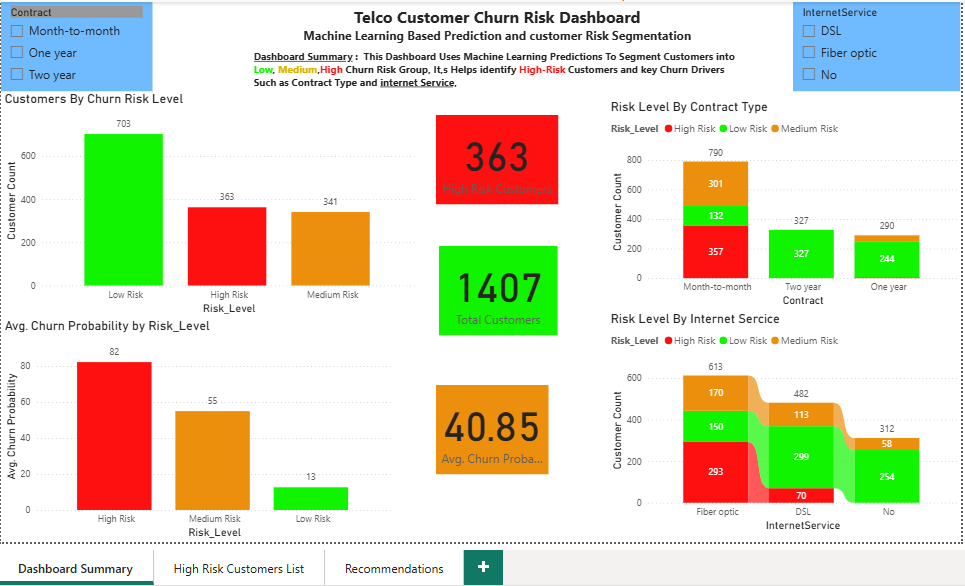

Layout of this report page (visuals, bound fields, positions):
{"tool":"powerbi","page":{"name":"Dashboard Summary","canvas":[1280,720],"ordinal":0},"visuals":[{"type":"card","fields":{"Values":["telco_churn_powerbi.Total Customers"]},"box":[584.6,325.9,157.9,119.3],"z":0},{"type":"card","fields":{"Values":["telco_churn_powerbi.High Risk Customers"]},"box":[579.5,151.2,162.9,119.3],"z":1000},{"type":"card","fields":{"Values":["telco_churn_powerbi.Average Churn Probabillity"]},"box":[579.5,510.7,149.5,119.3],"z":2000},{"type":"clusteredColumnChart","title":"Customers By Churn  Risk Level","fields":{"Category":["telco_churn_powerbi.Risk_Level"],"Y":["telco_churn_powerbi.Customer Count"]},"box":[0,119.3,557.7,302.4],"z":3000},{"type":"clusteredColumnChart","fields":{"Category":["telco_churn_powerbi.Risk_Level"],"Y":["telco_churn_powerbi.Average Churn Probabillity"]},"box":[0,421.6,525.8,299],"z":4000},{"type":"columnChart","title":"Risk Level By Contract Type","fields":{"Category":["telco_churn_powerbi.Contract"],"Y":["telco_churn_powerbi.Customer Count"],"Series":["telco_churn_powerbi.Risk_Level"]},"box":[808,129.3,472,282.2],"z":5000},{"type":"columnChart","title":"Risk Level By Internet Sercice ","fields":{"Category":["telco_churn_powerbi.InternetService"],"Y":["telco_churn_powerbi.Customer Count"],"Series":["telco_churn_powerbi.Risk_Level"]},"box":[808,411.5,472,299],"z":5001},{"type":"slicer","fields":{"Values":["telco_churn_powerbi.Contract"]},"box":[0,0,201.6,119.3],"z":5002},{"type":"slicer","fields":{"Values":["telco_churn_powerbi.InternetService"]},"box":[1056.6,0,223.4,119.3],"z":5003},{"type":"textbox","box":[278.8,0,766,60.5],"z":5004},{"type":"textbox","box":[331.7,59.2,656.5,60.6],"z":5005}]}

Visuals, with their boxes on the page's 1280x720 design canvas (x1, y1, x2, y2). These are canvas units, not pixel positions in the 965x586 screenshot, which may show the page scaled, cropped or inside an application window:
card - telco_churn_powerbi.Total Customers: select_region(585, 326, 742, 445)
card - telco_churn_powerbi.High Risk Customers: select_region(580, 151, 742, 270)
card - telco_churn_powerbi.Average Churn Probabillity: select_region(580, 511, 729, 630)
"Customers By Churn  Risk Level" clusteredColumnChart: select_region(0, 119, 558, 422)
clusteredColumnChart - telco_churn_powerbi.Risk_Level x telco_churn_powerbi.Average Churn Probabillity: select_region(0, 422, 526, 721)
"Risk Level By Contract Type" columnChart: select_region(808, 129, 1280, 412)
"Risk Level By Internet Sercice " columnChart: select_region(808, 412, 1280, 710)
slicer - telco_churn_powerbi.Contract: select_region(0, 0, 202, 119)
slicer - telco_churn_powerbi.InternetService: select_region(1057, 0, 1280, 119)
textbox: select_region(279, 0, 1045, 60)
textbox: select_region(332, 59, 988, 120)
